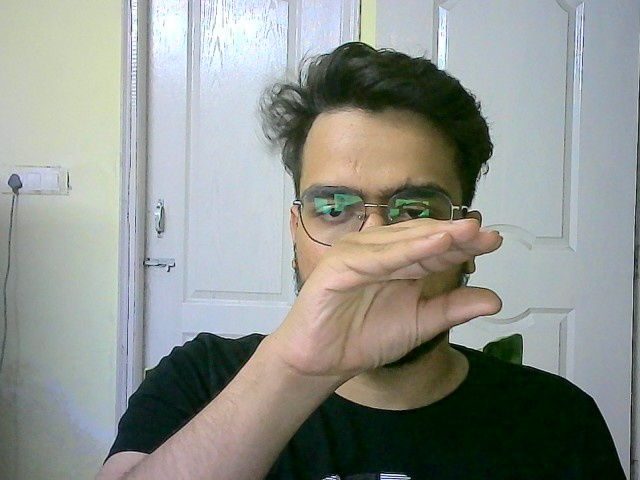No: (293, 218, 508, 374)
